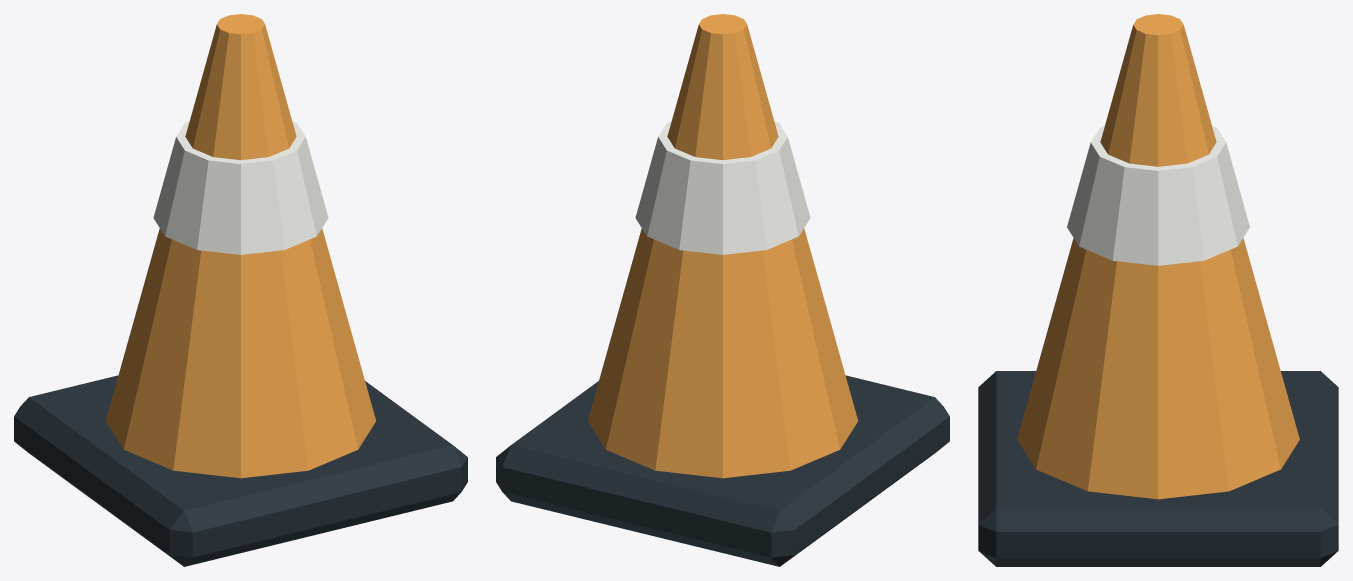
3 views of the same model, side by side, from view 1: azimuth 30°, elevation 25°; view 2: azimuth 150°, elevation 25°; view 3: azimuth 270°, elevation 25° (orthographic). The views are drawn at different scales.
Visible parts, largest first — view 1: harbor_cone; view 2: harbor_cone; view 3: harbor_cone.
Part boxes in pixels (box(x1,y1,x2,y2)): harbor_cone: box(14, 14, 467, 566); harbor_cone: box(496, 14, 949, 566); harbor_cone: box(978, 14, 1338, 566).
Bounding box in the file's own units: 0.5 × 0.725 × 0.5.
